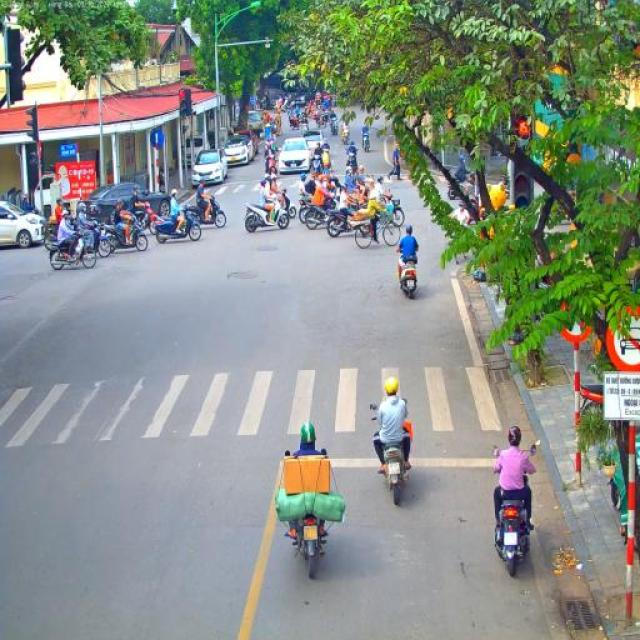car: (81, 181, 171, 227), (0, 199, 45, 249), (191, 148, 228, 190), (277, 136, 312, 175), (221, 133, 254, 167), (233, 128, 259, 158), (302, 128, 324, 160)
motorcycle: (274, 449, 346, 578), (492, 443, 537, 578), (370, 398, 414, 506), (48, 224, 97, 270), (152, 203, 202, 243), (69, 217, 112, 258), (245, 194, 290, 233), (102, 216, 149, 253), (326, 203, 372, 238), (183, 193, 227, 228), (306, 192, 342, 232), (126, 200, 160, 234), (443, 166, 476, 200), (398, 255, 420, 299), (297, 190, 325, 224), (580, 383, 604, 422), (43, 218, 61, 252), (278, 187, 297, 217), (390, 195, 406, 226), (312, 154, 324, 178), (322, 160, 333, 184), (369, 176, 382, 196), (264, 154, 276, 175), (265, 142, 277, 158), (347, 152, 358, 169), (360, 135, 370, 153), (300, 121, 310, 138), (314, 112, 324, 128), (320, 111, 330, 127), (341, 127, 350, 144), (290, 115, 300, 130), (330, 120, 339, 136), (272, 101, 282, 114), (281, 98, 288, 113)
truck: (257, 75, 285, 107), (244, 110, 266, 141)
